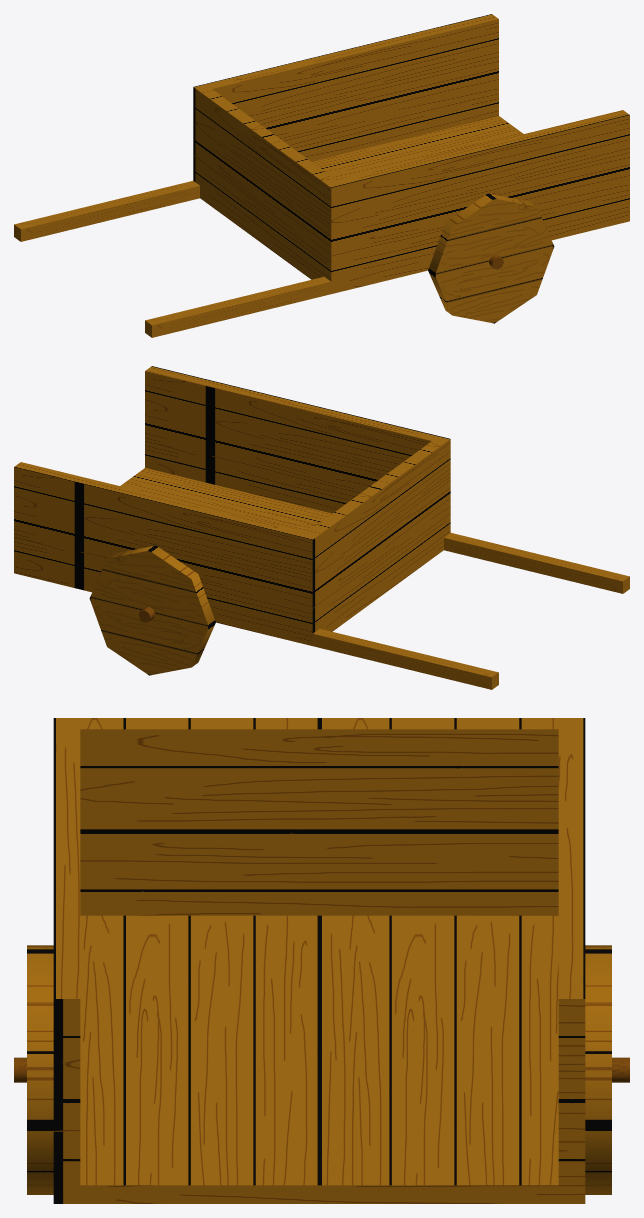
File: Carro.FBX
3 renders of one model, top to bottom at view 1: azimuth 30°, elevation 25°; view 2: azimuth 150°, elevation 25°; view 3: azimuth 270°, elevation 25°, orthographic. The views are drawn at different scales.
Parts seen in each view (by area): view 1: CuerpoCarro, RuedaCarro, AbrazaderaCarro, AbrazaderaCarro001; view 2: CuerpoCarro, RuedaCarro001, AbrazaderaCarro001, AbrazaderaCarro; view 3: CuerpoCarro, RuedaCarro, RuedaCarro001, EjeCarro.
Part boxes in pixels (x1,y1,x2,y2): CuerpoCarro: (193, 14, 629, 293); RuedaCarro: (428, 193, 554, 323); AbrazaderaCarro: (145, 276, 331, 337); AbrazaderaCarro001: (14, 181, 199, 241); CuerpoCarro: (14, 366, 450, 645); RuedaCarro001: (89, 545, 215, 675); AbrazaderaCarro001: (312, 628, 498, 689); AbrazaderaCarro: (444, 533, 629, 593); CuerpoCarro: (53, 718, 585, 1203); RuedaCarro: (27, 945, 53, 1194); RuedaCarro001: (585, 945, 611, 1194); EjeCarro: (14, 1057, 629, 1082).
Bounding box in the file's own units: 400 × 135 × 232.
